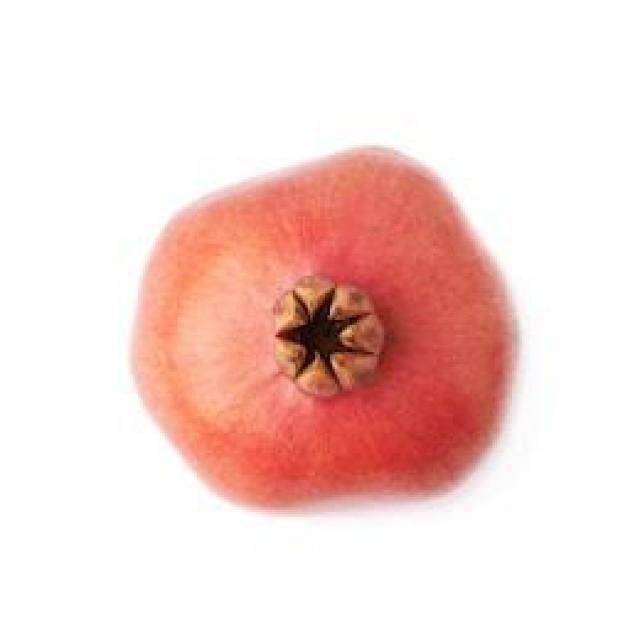Pomegranate: (127, 140, 526, 517)
